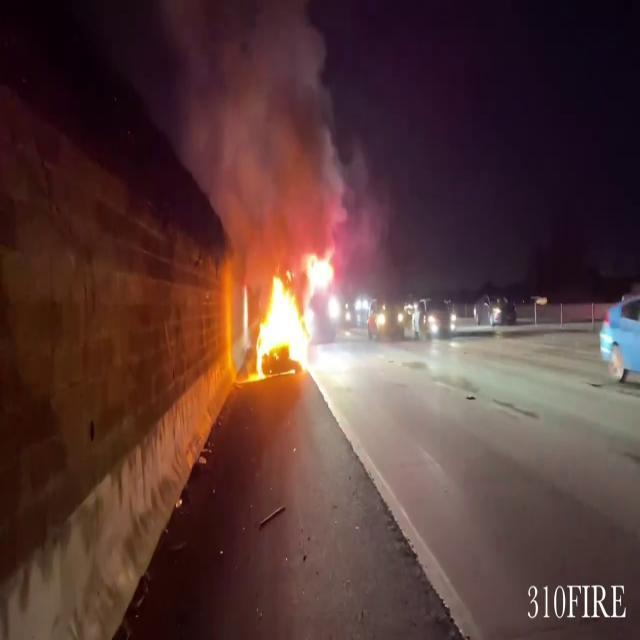Fire: (237, 241, 343, 381)
Smoke: (188, 0, 354, 249)
